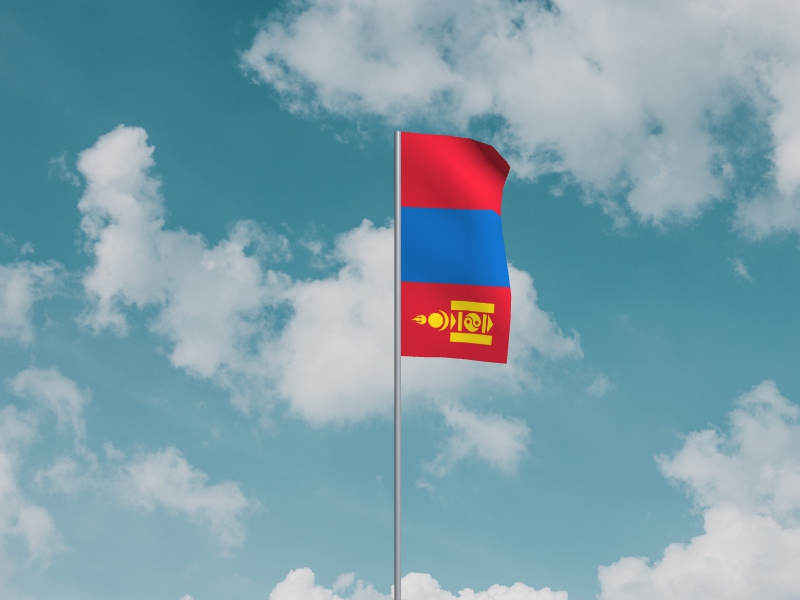mn: (402, 133, 513, 365)
